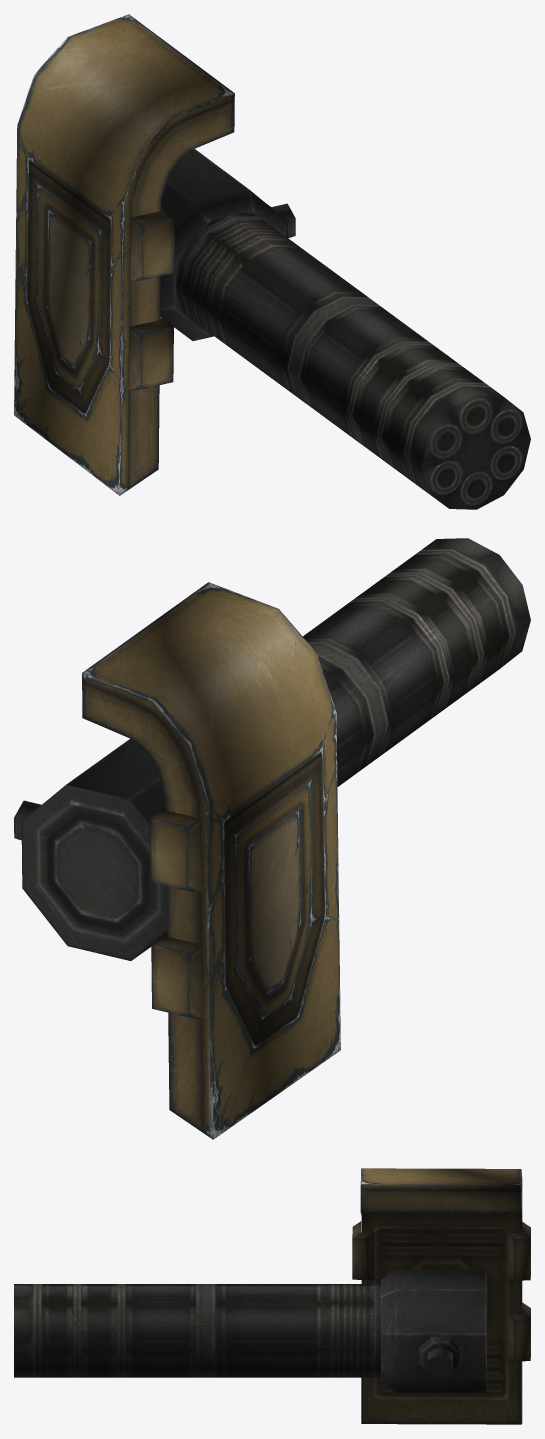
Rendered from Mech01_Weapon_R.FBX.
The picture shows the model from 3 angles, top to bottom: view 1: azimuth 30°, elevation 25°; view 2: azimuth 150°, elevation 25°; view 3: azimuth 270°, elevation 25°; orthographic projection. The views are drawn at different scales.
Visible parts, largest first — view 1: weapon_R1, weapon_R2; view 2: weapon_R1, weapon_R2; view 3: weapon_R1, weapon_R2.
Boxes of the visible parts, x1=… form: weapon_R1: x1=14, y1=14, x2=295, y2=495; weapon_R2: x1=176, y1=215, x2=530, y2=509; weapon_R1: x1=14, y1=582, x2=340, y2=1139; weapon_R2: x1=303, y1=538, x2=530, y2=786; weapon_R1: x1=352, y1=1168, x2=530, y2=1424; weapon_R2: x1=14, y1=1284, x2=381, y2=1377.
Bounding box in the file's own units: 384 × 624 × 1045.
